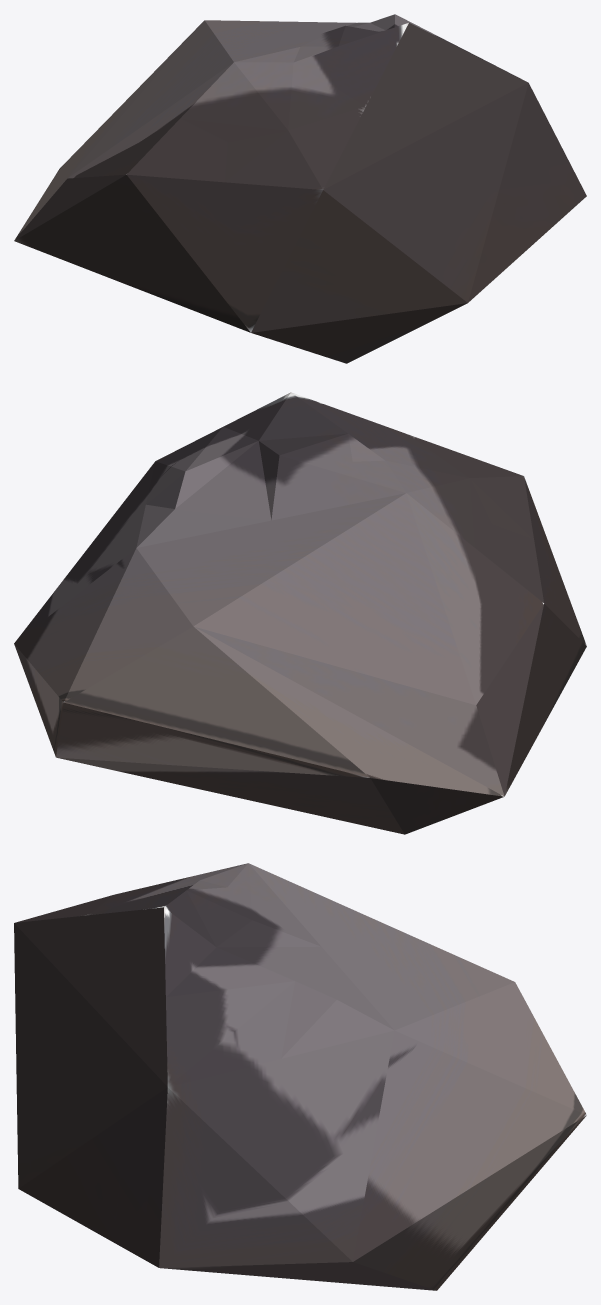
File: rock.fbx
3 views of the same model, one above another, from view 1: azimuth 30°, elevation 25°; view 2: azimuth 150°, elevation 25°; view 3: azimuth 270°, elevation 25° (orthographic). The views are drawn at different scales.
Parts seen in each view (by area): view 1: Rock; view 2: Rock; view 3: Rock.
Boxes of the visible parts, bbox=[...] form: Rock: bbox=[14, 14, 586, 363]; Rock: bbox=[14, 392, 586, 834]; Rock: bbox=[14, 863, 586, 1290].
Bounding box in the file's own units: 19.79 × 11.47 × 17.42.
Materials: 1 (1 with a texture image).
